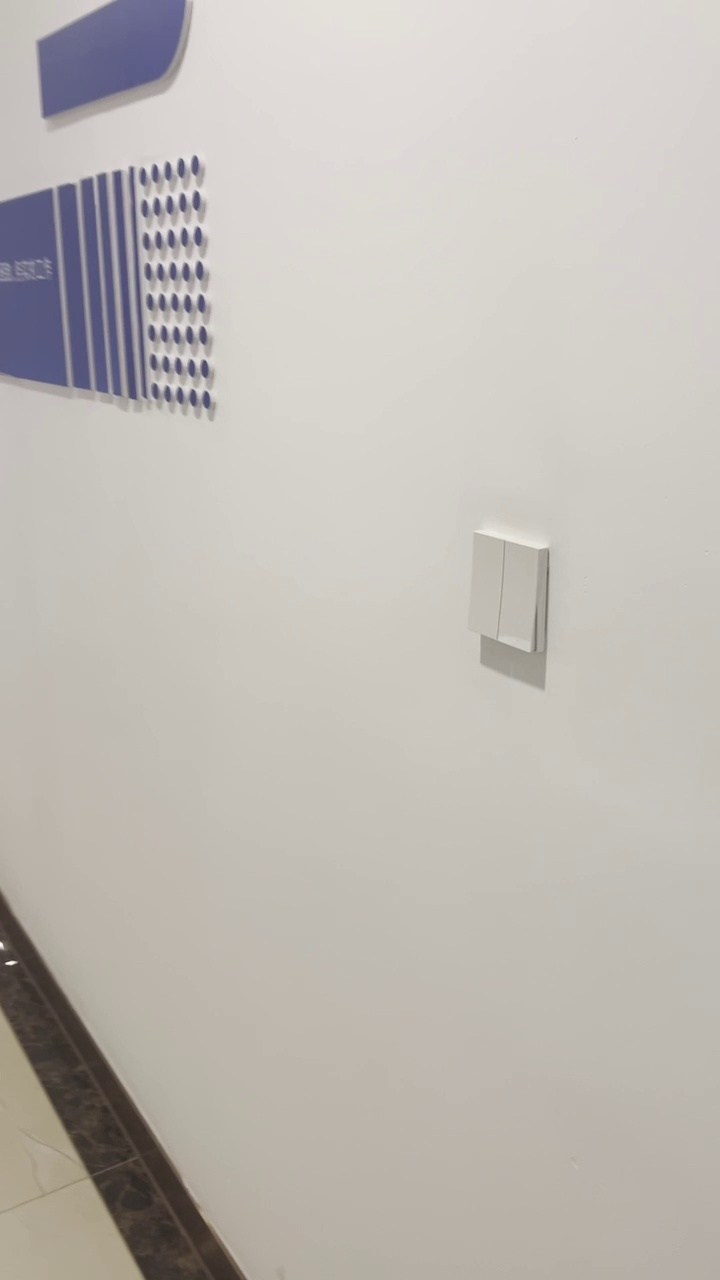button: (460, 525, 556, 659)
